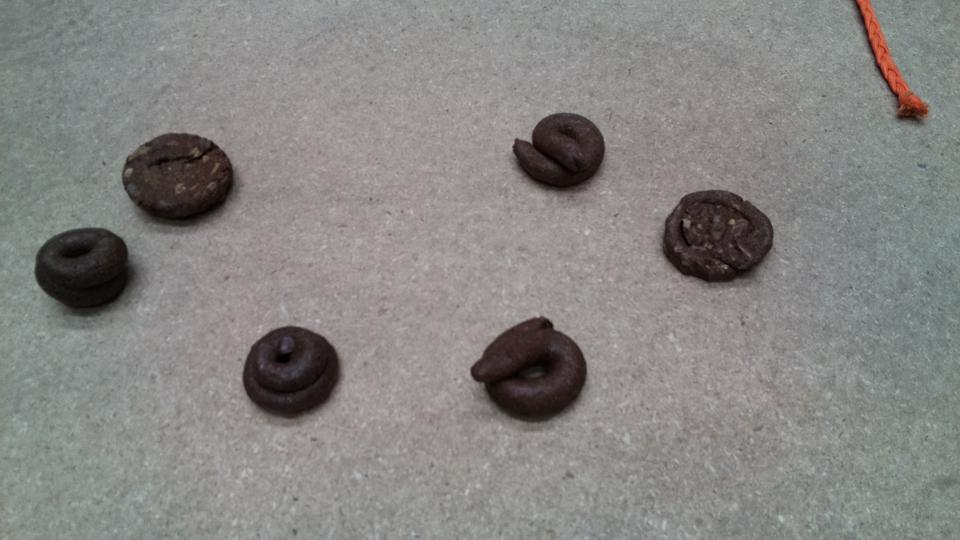poop: (469, 313, 591, 426), (658, 186, 778, 288), (118, 128, 238, 228), (238, 323, 343, 424), (32, 224, 138, 317), (510, 108, 608, 195)
rope: (853, 1, 934, 123)
